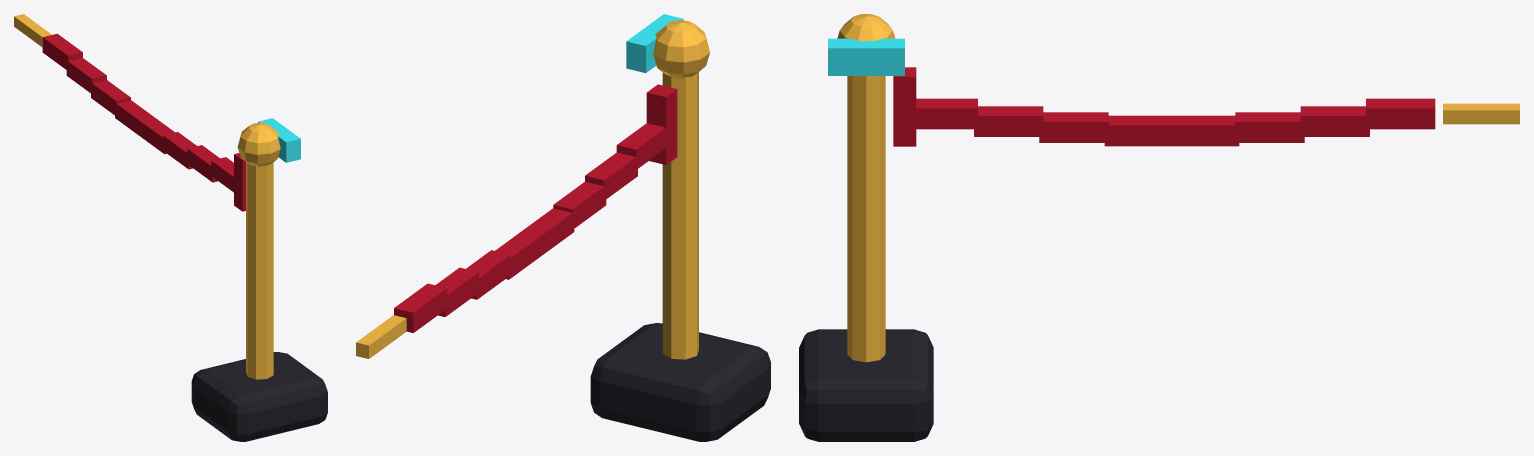
File: robot_cordon.glb
The picture shows the model from 3 angles, left to right: view 1: azimuth 30°, elevation 25°; view 2: azimuth 150°, elevation 25°; view 3: azimuth 270°, elevation 25°; orthographic projection. The views are drawn at different scales.
Parts seen in each view (by area): view 1: p_rbox.2234, p_cyl.1712, p_sph.1604, p_box.8566, p_box.8565, p_box.8557, p_box.8564, p_box.8563, p_box.8561, p_box.8560, p_box.8562, p_box.8558 (+2 smaller); view 2: p_rbox.2234, p_cyl.1712, p_sph.1604, p_box.8558, p_box.8566, p_box.8560, p_box.8557, p_box.8559, p_box.8561, p_box.8563, p_box.8562, p_box.8565 (+2 smaller); view 3: p_rbox.2234, p_cyl.1712, p_box.8557, p_box.8566, p_box.8562, p_box.8563, p_box.8565, p_box.8559, p_box.8561, p_box.8560, p_box.8564, p_box.8558 (+2 smaller).
Part boxes in pixels (<box>): p_rbox.2234: <box>191,352,327,441</box>; p_cyl.1712: <box>246,162,273,379</box>; p_sph.1604: <box>237,122,280,166</box>; p_box.8566: <box>42,33,82,70</box>; p_box.8565: <box>66,58,106,93</box>; p_box.8557: <box>258,118,300,162</box>; p_box.8564: <box>91,80,130,115</box>; p_box.8563: <box>115,100,154,136</box>; p_box.8561: <box>163,132,196,169</box>; p_box.8560: <box>187,145,219,182</box>; p_box.8562: <box>140,118,174,154</box>; p_box.8558: <box>234,153,245,211</box>; p_rbox.2234: <box>590,323,770,441</box>; p_cyl.1712: <box>662,72,698,359</box>; p_sph.1604: <box>653,20,709,78</box>; p_box.8558: <box>646,84,677,164</box>; p_box.8566: <box>394,283,447,332</box>; p_box.8560: <box>585,152,637,200</box>; p_box.8557: <box>626,14,683,73</box>; p_box.8559: <box>616,123,666,169</box>; p_box.8561: <box>553,181,606,228</box>; p_box.8563: <box>495,230,542,279</box>; p_box.8562: <box>523,208,574,254</box>; p_box.8565: <box>435,267,478,316</box>; p_rbox.2234: <box>799,329,933,441</box>; p_cyl.1712: <box>847,76,885,362</box>; p_box.8557: <box>828,38,904,75</box>; p_box.8566: <box>1366,98,1435,129</box>; p_box.8562: <box>1104,115,1173,146</box>; p_box.8563: <box>1170,115,1239,146</box>; p_box.8565: <box>1300,106,1369,136</box>; p_box.8559: <box>908,98,977,129</box>; p_box.8561: <box>1039,112,1108,142</box>; p_box.8560: <box>974,106,1043,136</box>; p_box.8564: <box>1235,112,1304,142</box>; p_box.8558: <box>893,67,916,146</box>.
Bounding box in the file's own units: 0.4 × 1.15 × 1.88.
